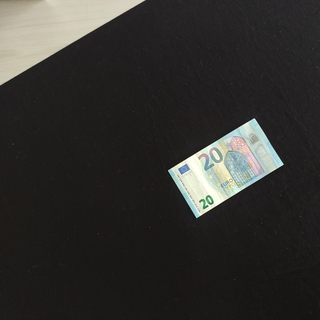20EUROFront: (167, 118, 284, 218)
